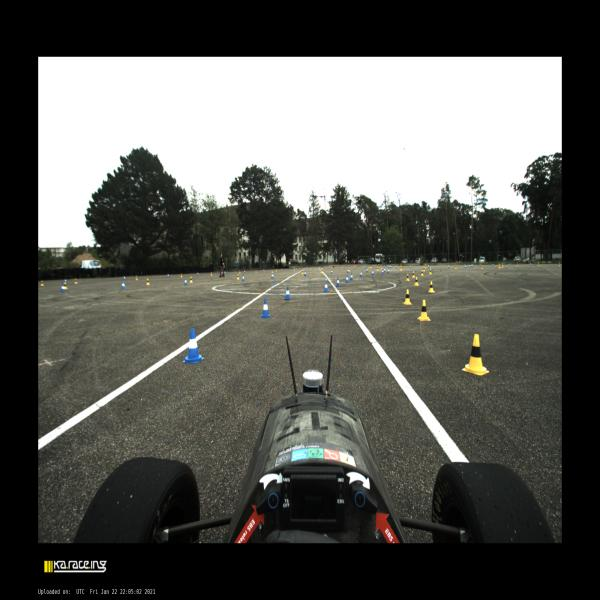blue_cone: (182, 328, 204, 363), (260, 299, 272, 318), (284, 287, 291, 300), (335, 278, 341, 286), (324, 281, 328, 292), (61, 284, 66, 292), (121, 282, 126, 289), (346, 275, 349, 283), (184, 279, 188, 285), (350, 273, 353, 280), (242, 275, 245, 281), (271, 273, 274, 279), (64, 278, 67, 284), (427, 264, 430, 269), (371, 270, 374, 275), (304, 271, 307, 276), (387, 268, 390, 273), (360, 271, 362, 277), (366, 267, 368, 273), (347, 268, 349, 274), (382, 269, 384, 274), (124, 276, 126, 280), (197, 272, 199, 276), (384, 268, 386, 272), (263, 269, 265, 272), (281, 268, 283, 271), (355, 265, 357, 268), (390, 265, 392, 268), (409, 265, 411, 268), (448, 265, 450, 268), (471, 264, 473, 267), (492, 263, 494, 266), (509, 263, 511, 266), (331, 269, 332, 274), (465, 264, 466, 268), (308, 266, 309, 270), (342, 266, 344, 268), (374, 265, 376, 267), (387, 265, 389, 267), (384, 264, 385, 268), (319, 267, 321, 269), (469, 264, 470, 268), (479, 264, 481, 266), (530, 262, 531, 266), (168, 274, 169, 277), (296, 267, 297, 270), (225, 271, 226, 274), (329, 266, 330, 268), (365, 265, 366, 267), (396, 266, 397, 268)
yellow_cone: (462, 334, 489, 375), (417, 300, 431, 321), (403, 290, 412, 304), (428, 281, 436, 292), (414, 277, 419, 286), (406, 274, 410, 282), (64, 282, 68, 290), (189, 276, 193, 283), (146, 278, 150, 285), (412, 271, 415, 278), (40, 281, 44, 286), (429, 268, 432, 274), (271, 271, 274, 277), (180, 273, 183, 278), (75, 279, 78, 284), (421, 270, 423, 276), (400, 265, 402, 271), (301, 270, 304, 274), (210, 272, 213, 276), (320, 269, 323, 273), (423, 267, 425, 272), (376, 266, 378, 271), (237, 274, 239, 279), (424, 265, 426, 269), (238, 270, 240, 274), (255, 269, 257, 273), (454, 265, 456, 269), (481, 265, 483, 269), (136, 276, 138, 280), (501, 264, 503, 268), (244, 270, 246, 273), (331, 266, 333, 269), (353, 265, 355, 268), (362, 265, 364, 268), (516, 263, 518, 266), (537, 263, 539, 266), (558, 263, 560, 266), (349, 267, 350, 272), (276, 268, 277, 272), (368, 266, 370, 268), (370, 266, 372, 268), (321, 267, 323, 269), (499, 265, 500, 269), (294, 268, 295, 271), (310, 267, 311, 270), (381, 266, 382, 269), (341, 266, 342, 268)
